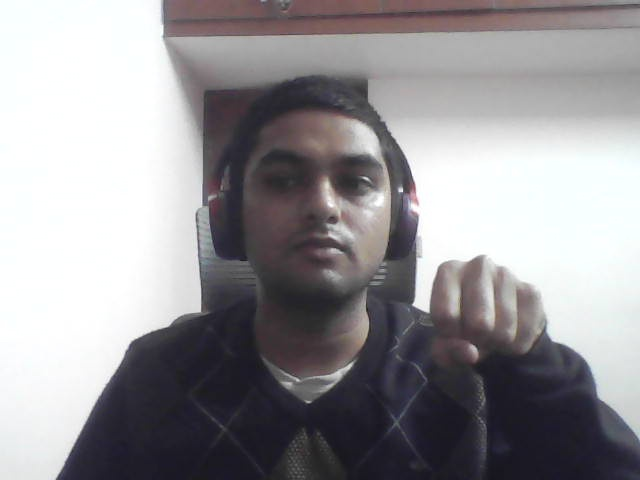Yes: (416, 252, 569, 395)
